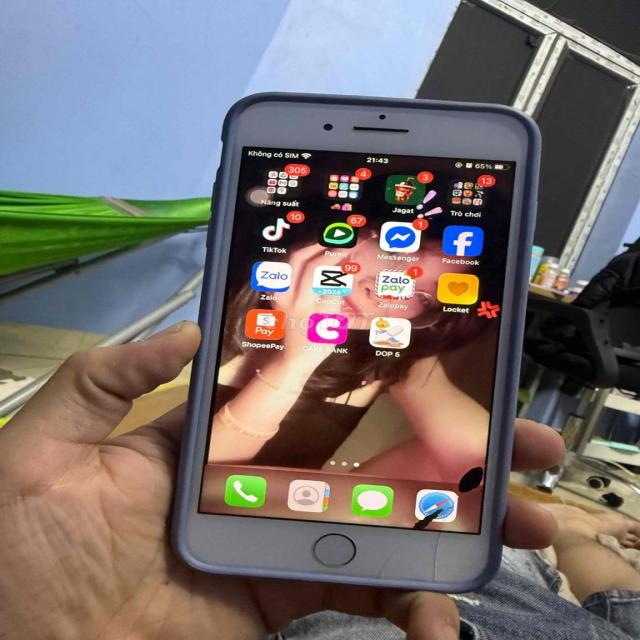gen_7_8: (160, 88, 544, 597)
